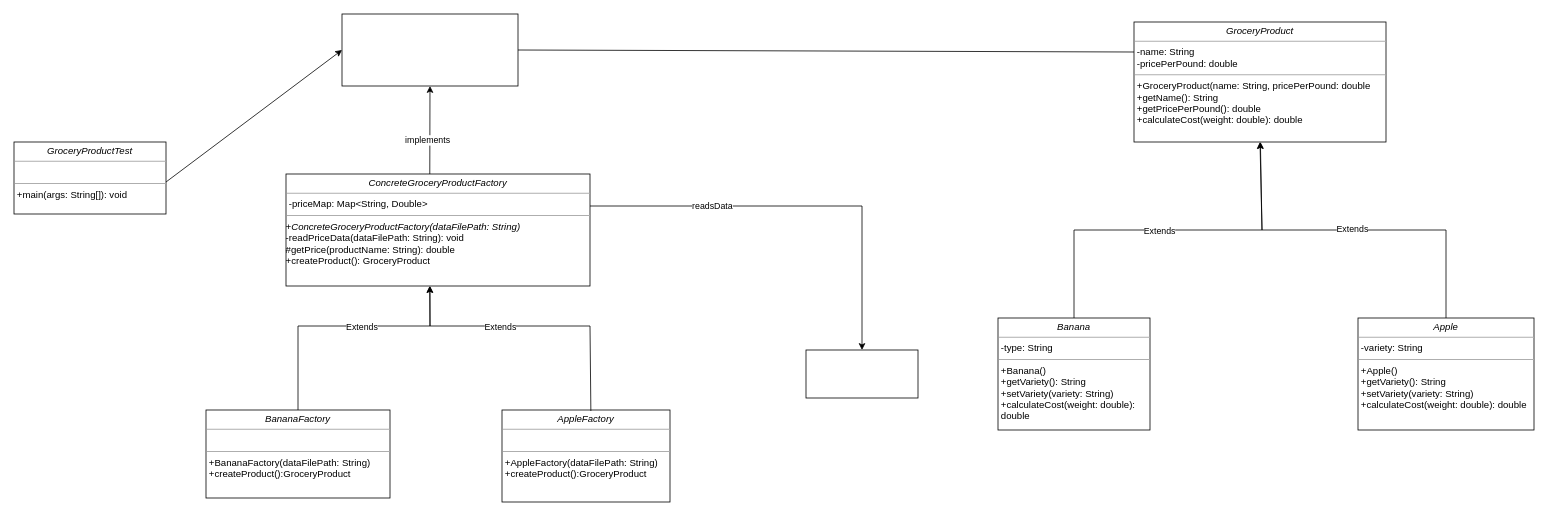
Some shapes in this 1548 by 516 pixel diagram are drawn without their labels. The shapes that lost their labels are listed below. From the top down, each one's box as (x1, y1, x2, y2) in pixels, then its label:
(341, 13, 518, 86): GroceryProductFactory <<interface>> +createProduct(): GroceryProduct
(805, 349, 918, 398): DataFileReader +readDataFile(): void
